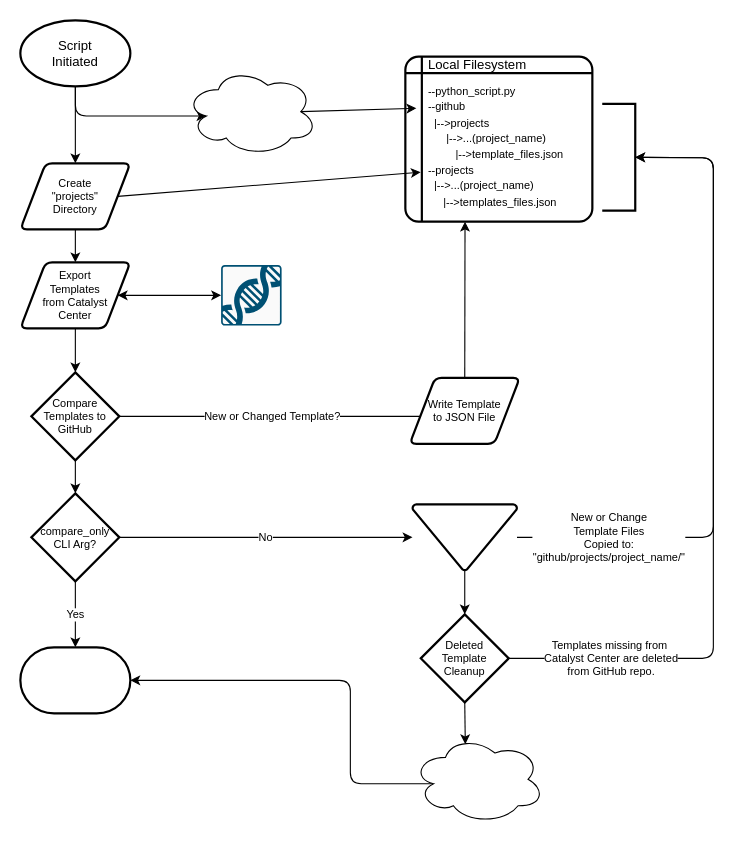
The diagram is 741 pixels wide and 843 high, and some of its shapes have lost their labels. The box of each missing label's shape, as (x1, y1, x2, y2) in pixels:
Clone GitHub Repo: (184, 67, 317, 156)
Commit & Push Changes to GitHub: (411, 734, 544, 823)
Copy Files: (411, 503, 518, 571)
Print Results and Exit: (19, 646, 131, 714)
